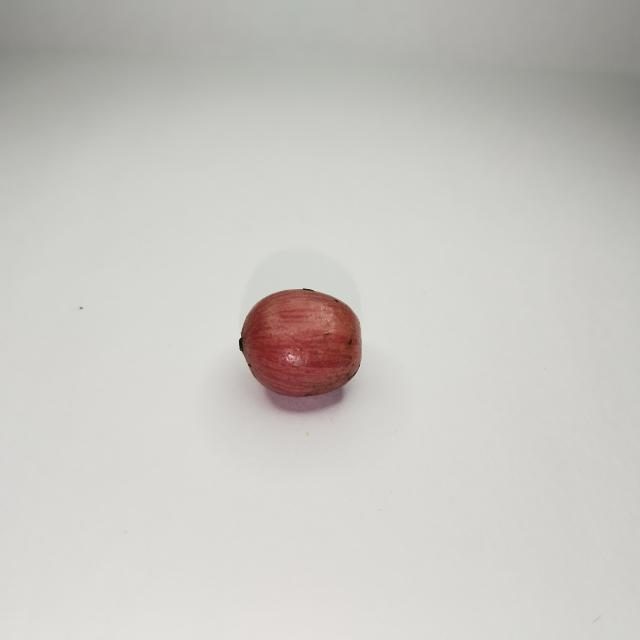Sano: (239, 289, 361, 399)
